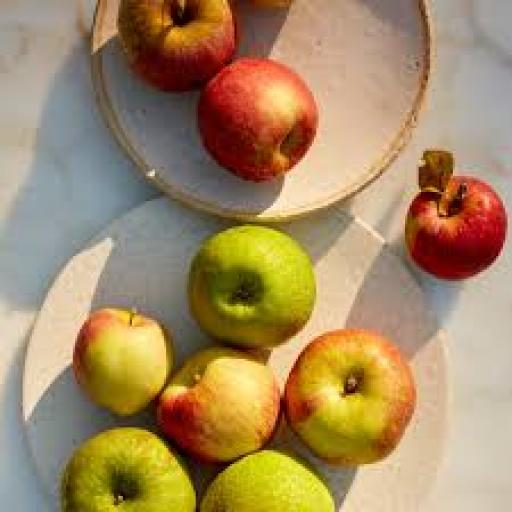Apple: (285, 330, 416, 466), (189, 227, 316, 347), (198, 58, 318, 180), (158, 348, 279, 461), (406, 151, 507, 278), (60, 428, 195, 511), (73, 309, 172, 415)
